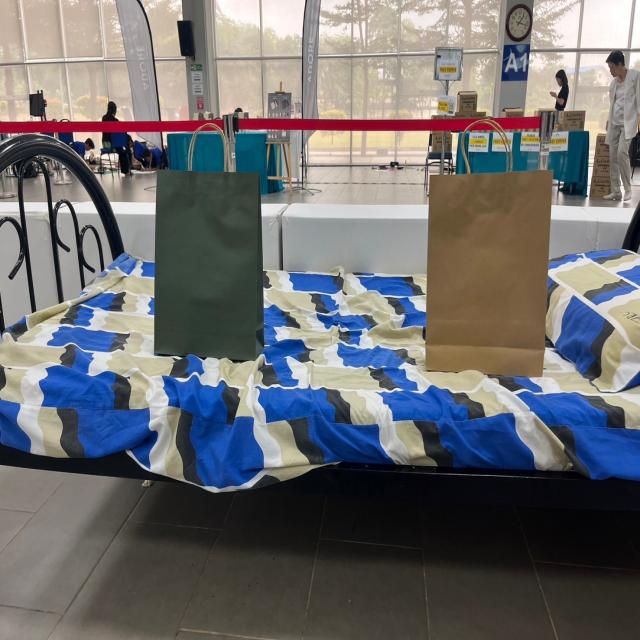bag: (429, 116, 549, 373), (164, 103, 259, 352)
